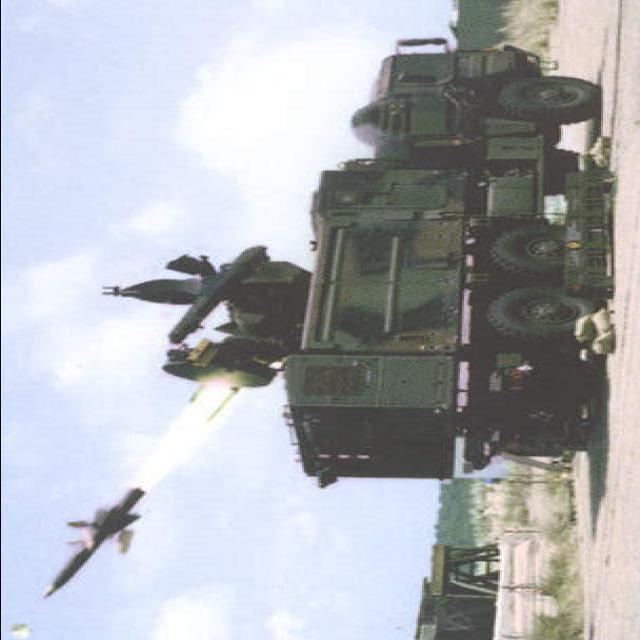missile: (46, 483, 146, 597)
